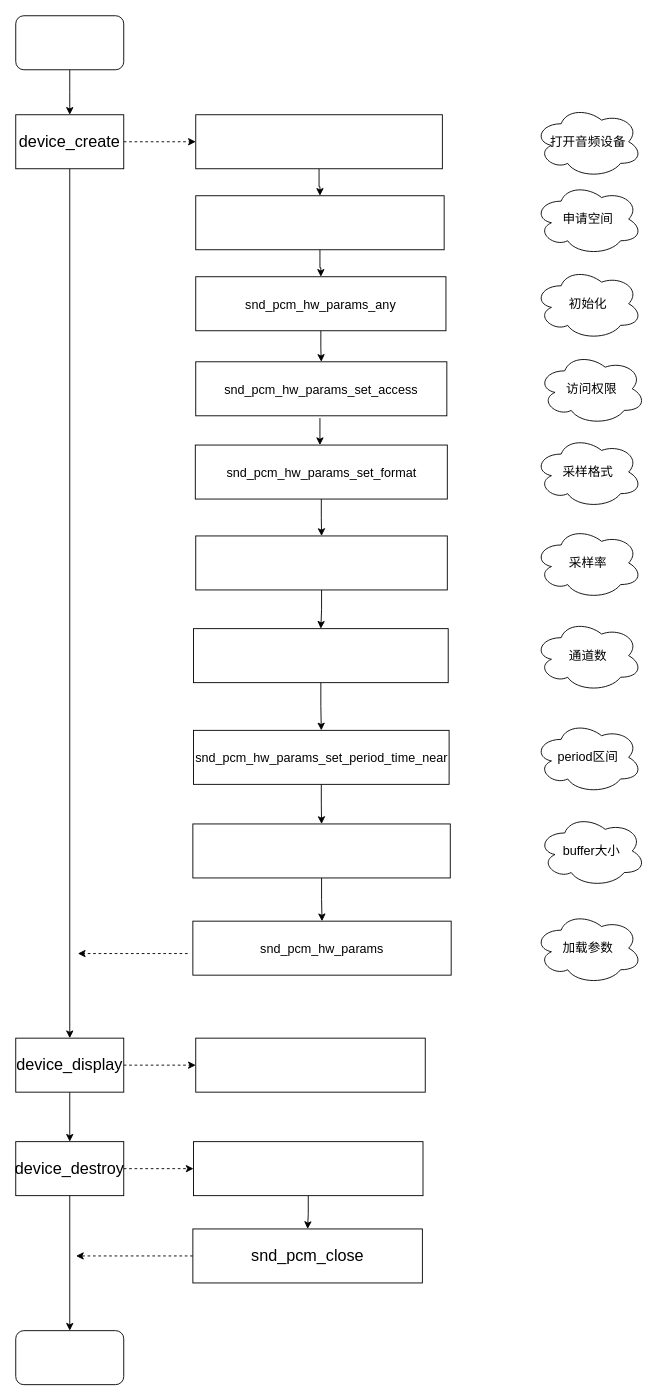
Image size: 662x1400. Some labels were removed from this diagram. The shapes that lost their labels are listed below. From the top down, each one's box as (x1, y1, x2, y2) in pixels, then its label:
(15, 15, 124, 70): Start
(195, 114, 442, 169): snd_pcm_open
(195, 195, 444, 250): snd_pcm_hw_params_malloc
(195, 535, 447, 590): snd_pcm_hw_params_set_rate_near
(193, 628, 448, 683): snd_pcm_hw_params_set_channels
(192, 823, 450, 878): snd_pcm_hw_params_set_buffer_time_near
(195, 1037, 425, 1092): snd_pcm_writei
(193, 1141, 423, 1196): snd_pcm_drain
(15, 1330, 124, 1385): End
